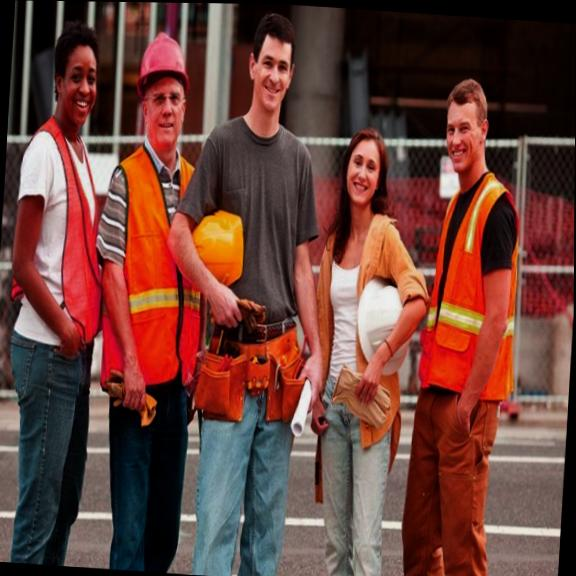no_safety_vest: (201, 113, 306, 361), (314, 204, 400, 375)
safety_vest: (412, 178, 523, 417), (105, 140, 206, 373)
